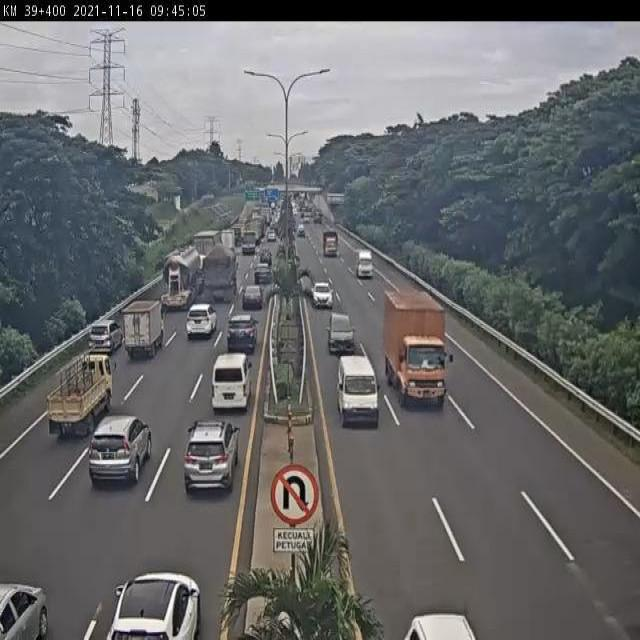car: (88, 416, 152, 481), (185, 420, 237, 492), (335, 354, 379, 426), (210, 355, 250, 412), (326, 312, 356, 353), (224, 319, 256, 356), (87, 320, 122, 353), (186, 304, 217, 339), (241, 285, 263, 315), (313, 280, 335, 308), (252, 265, 271, 287)
truck: (386, 289, 448, 408), (48, 353, 114, 435), (161, 244, 204, 313), (123, 297, 167, 360), (196, 248, 236, 309), (190, 229, 222, 279)
